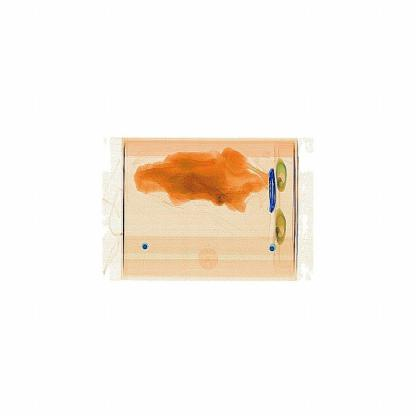knife: (259, 163, 285, 216)
